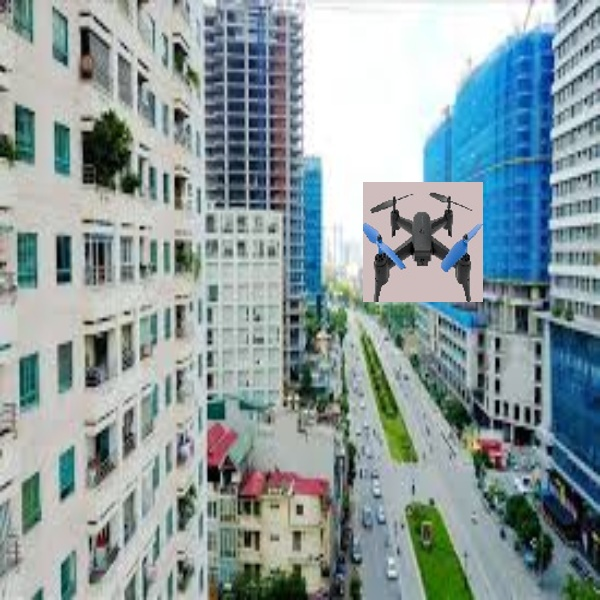drone: (359, 181, 484, 300)
